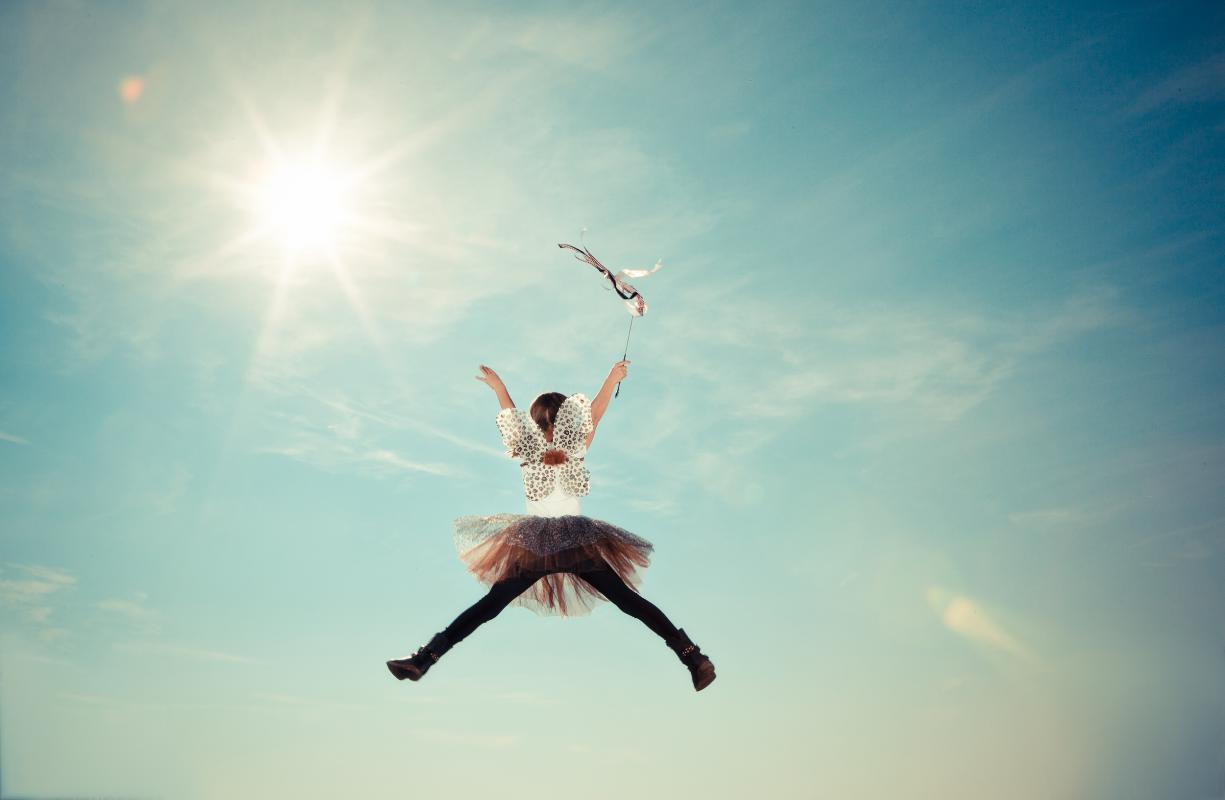Person: (385, 361, 729, 694)
